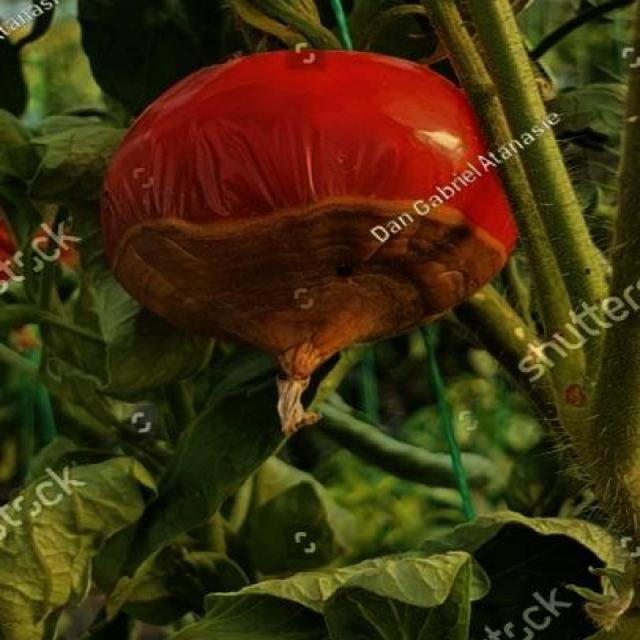Blossom End Rot Fruit: (80, 116, 353, 257)
